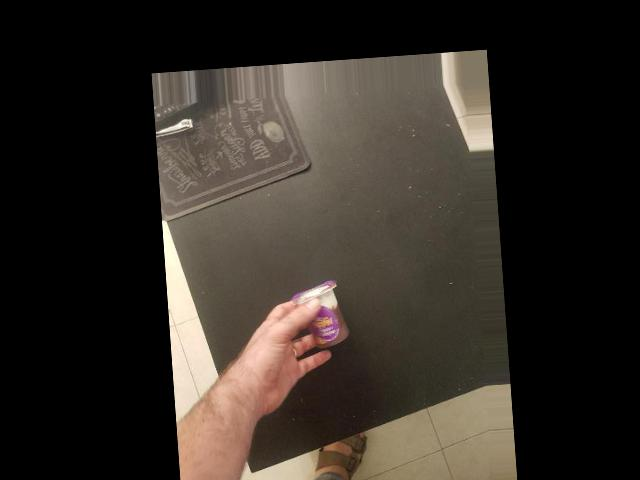milky: (345, 214, 433, 283)
